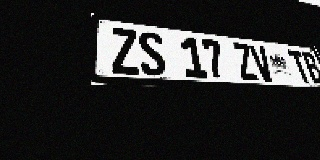1: (178, 36, 208, 78)
7: (200, 38, 229, 79)
B: (300, 51, 320, 84)
S: (137, 30, 167, 77)
T: (287, 49, 313, 83)
V: (248, 45, 276, 82)
Z: (110, 27, 141, 75), (231, 42, 260, 81)
